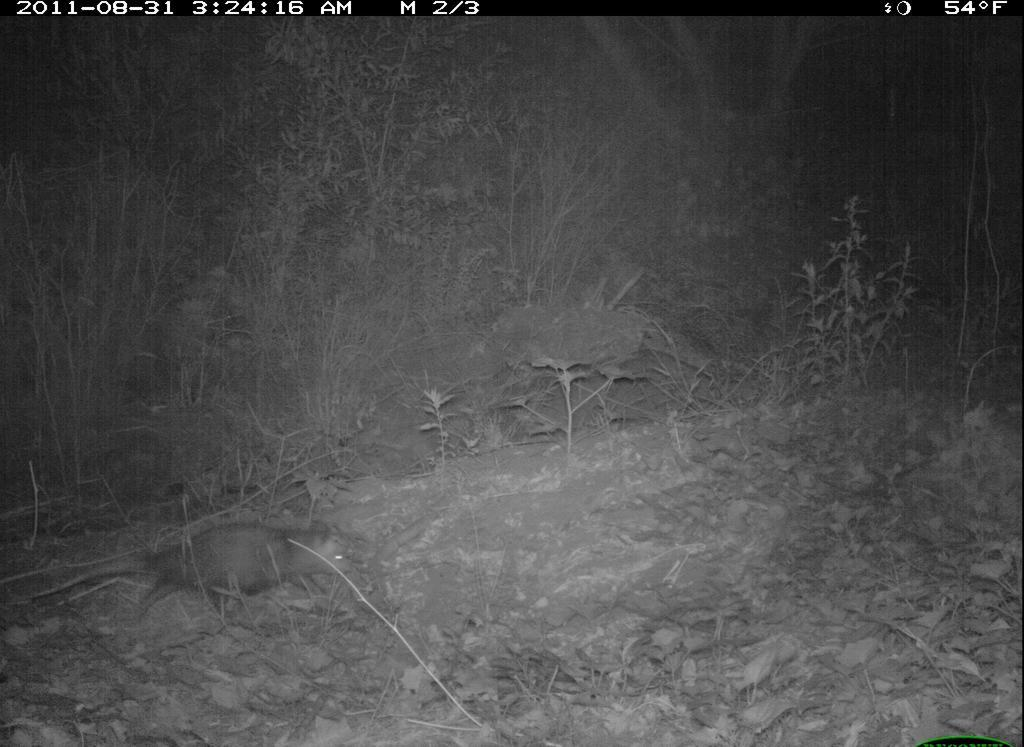opossum: (34, 514, 365, 624)
